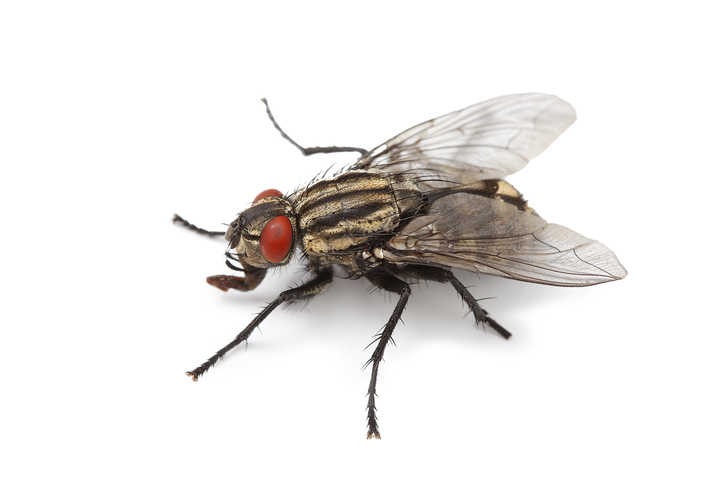phorid fly: (162, 63, 646, 448)
